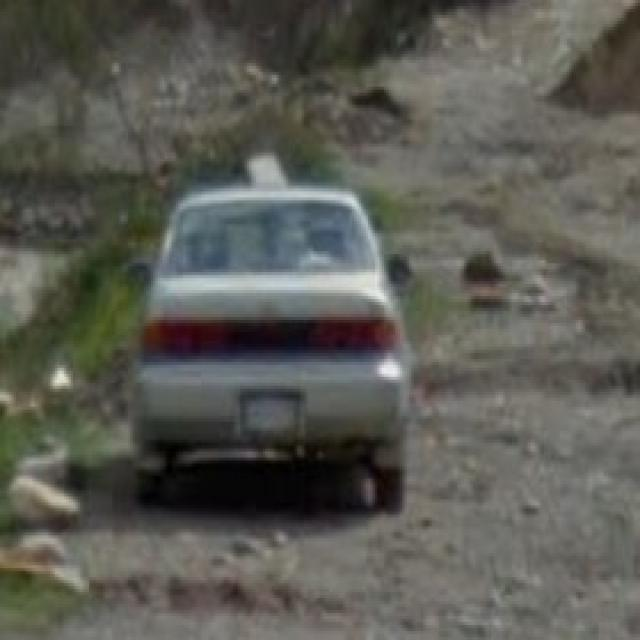cars: (135, 183, 414, 507)
